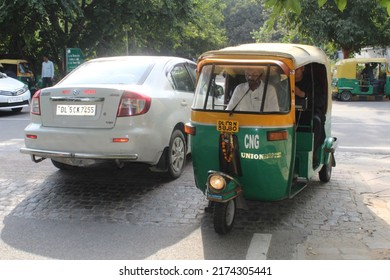car: (17, 55, 197, 178), (1, 70, 31, 116)
threewheel: (183, 42, 336, 233), (332, 58, 390, 101)
